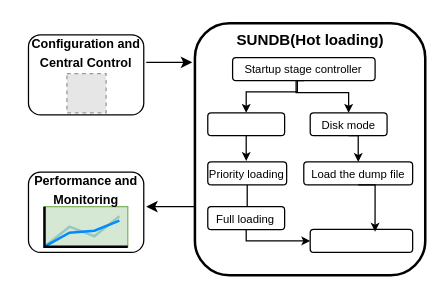
Some shapes in this 447 by 297 pixel diagram are drawn without their labels. Grey dashed boxes stand in for pictures. The centre of each missing label's shape, as x and y in pixels:
"Memory mode" belongs at point (246, 124).
"Periodic dumping" belongs at point (361, 240).
